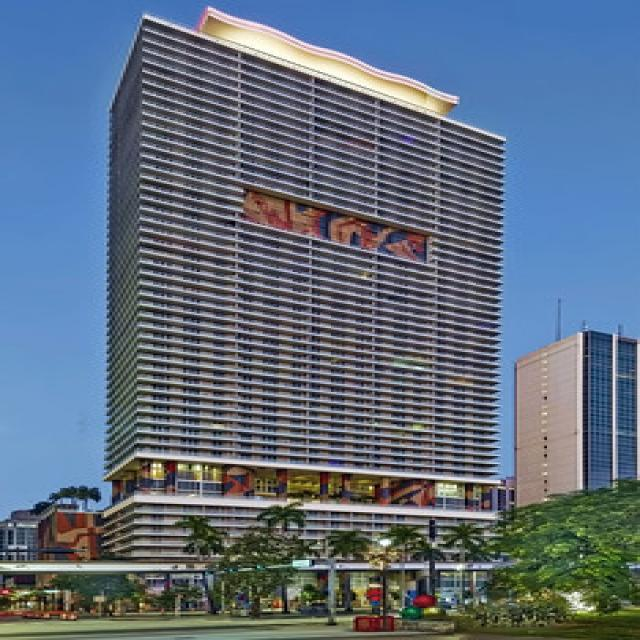Normal_building: (90, 2, 512, 568)
